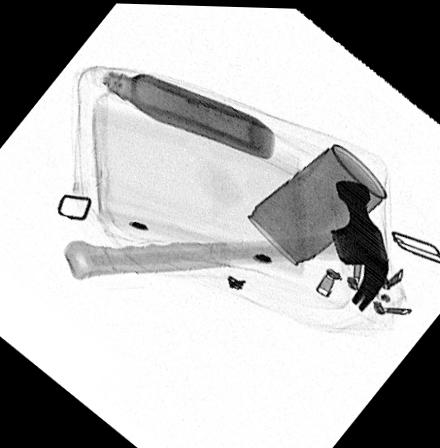Hammer: (63, 176, 391, 310)
